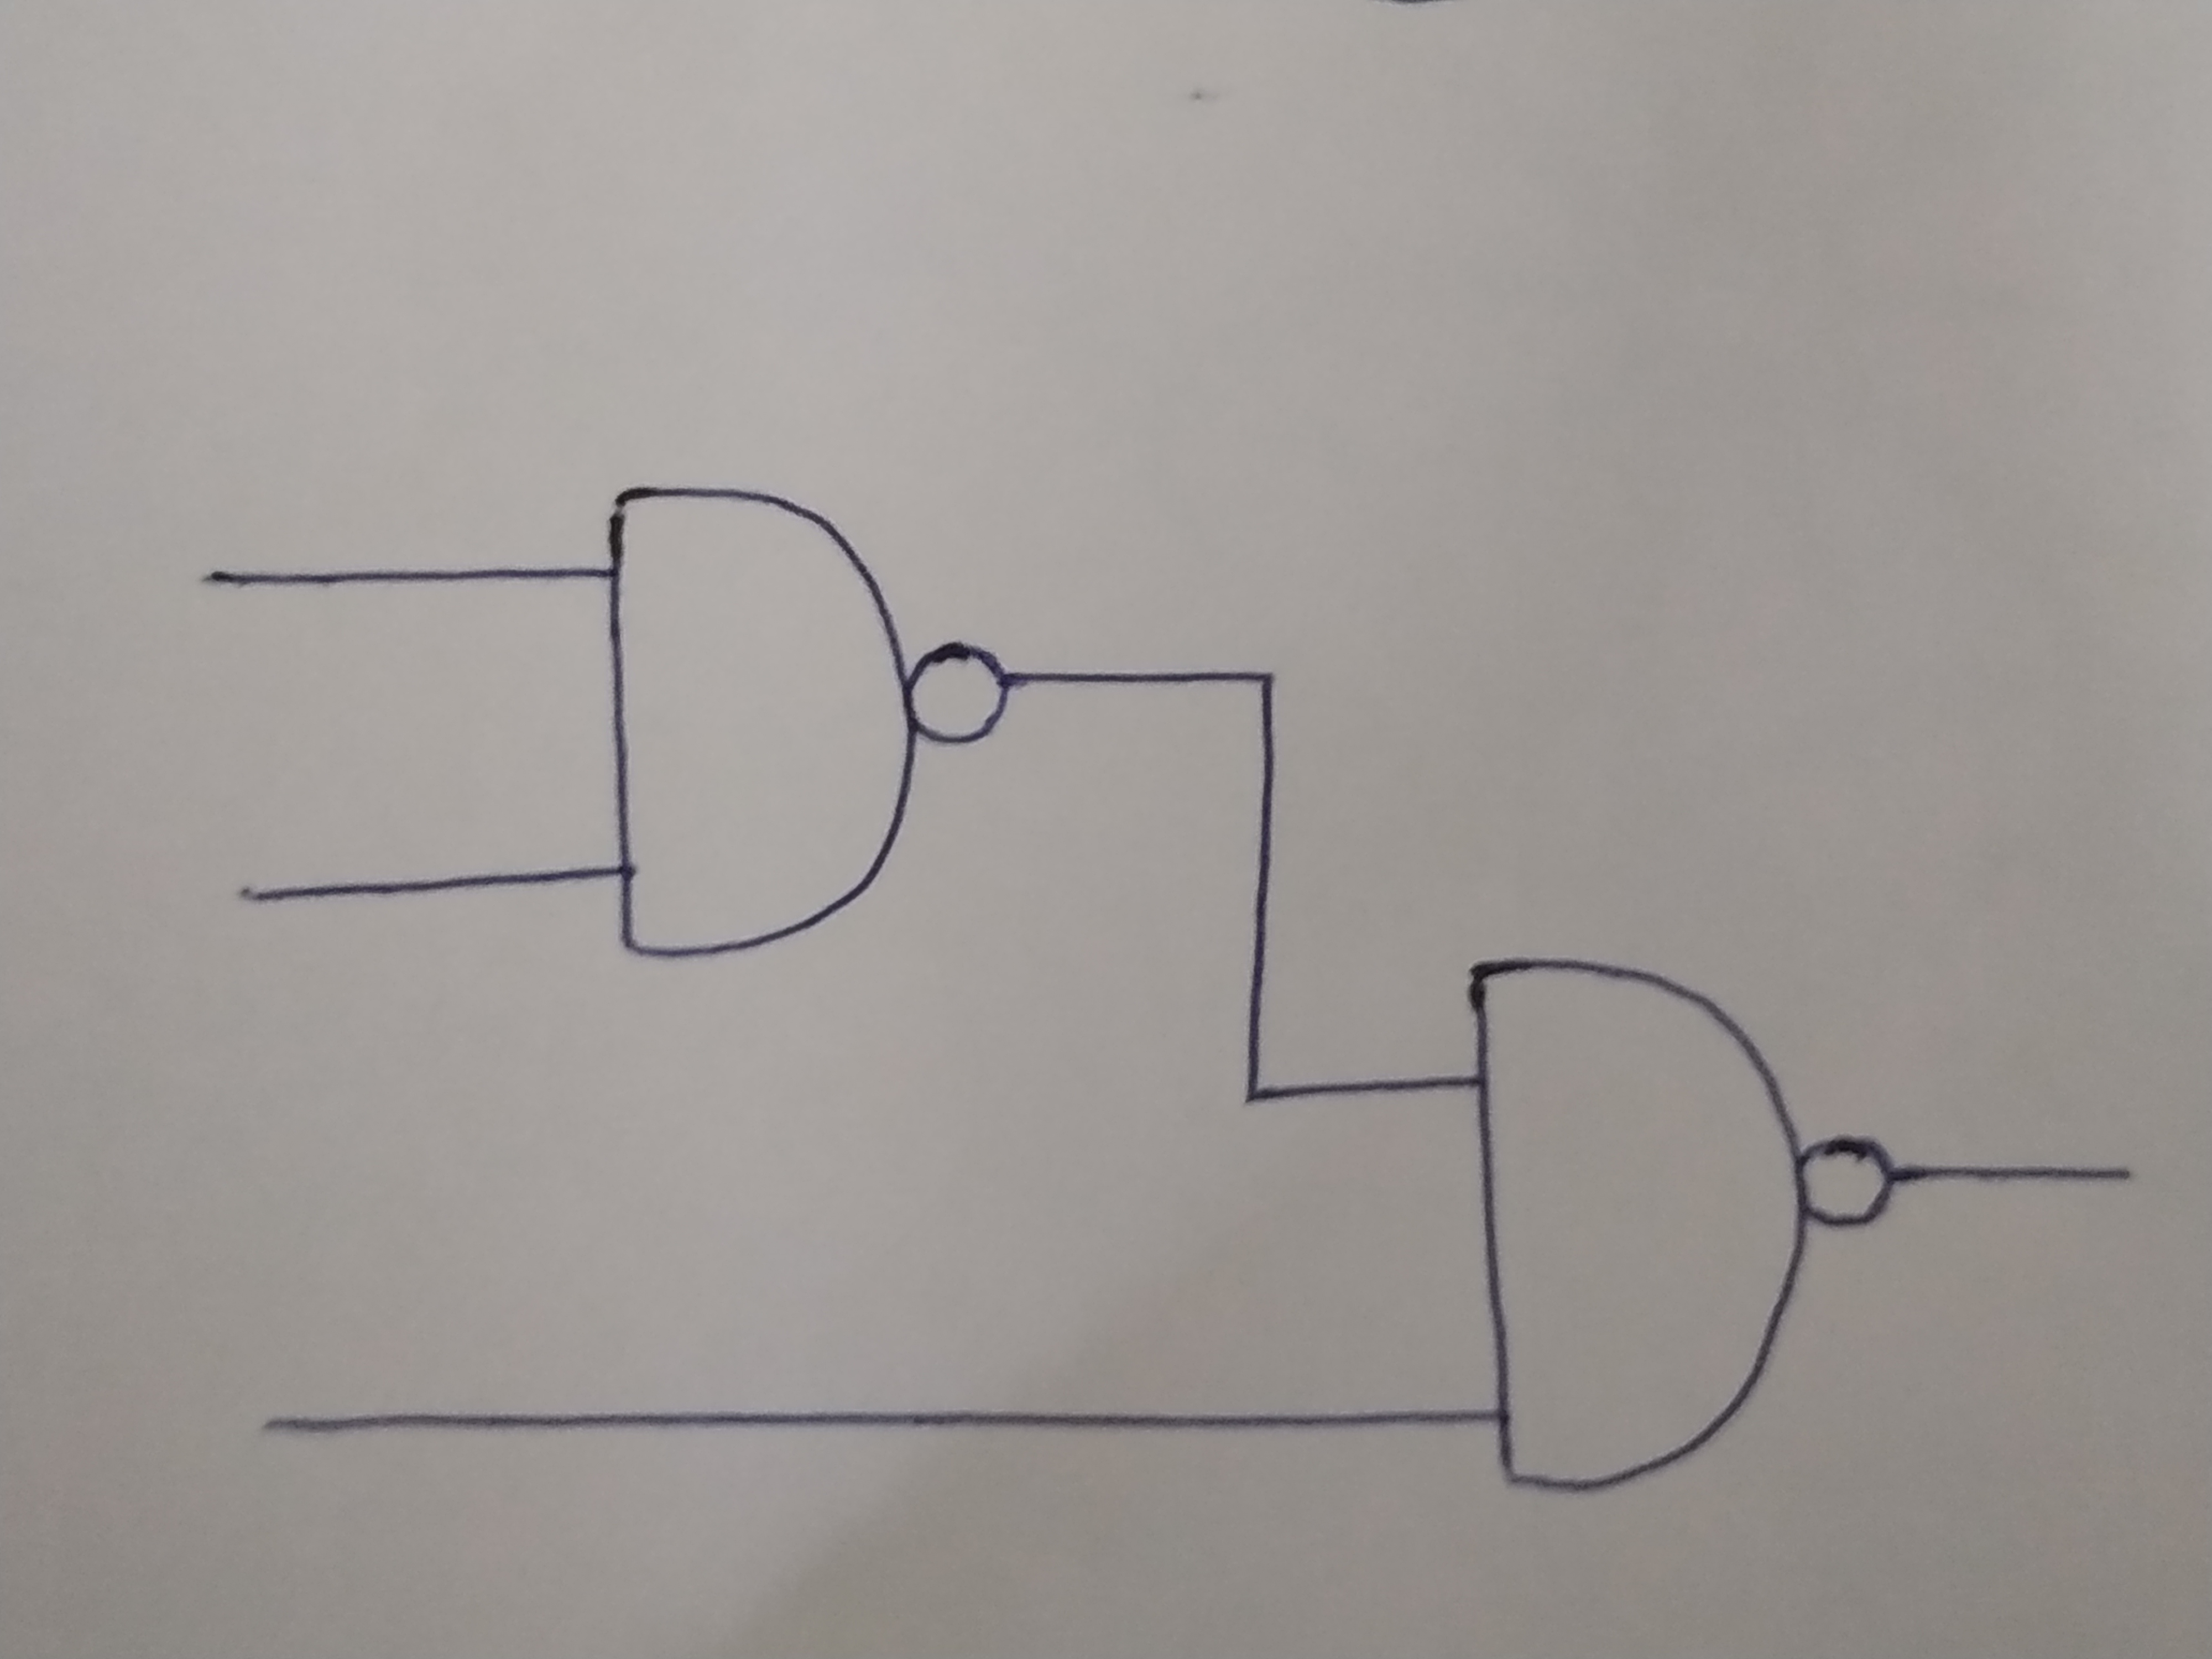and: (1467, 964, 1796, 1488), (610, 493, 906, 951)
not: (916, 645, 1014, 744), (1804, 1133, 1890, 1227)
